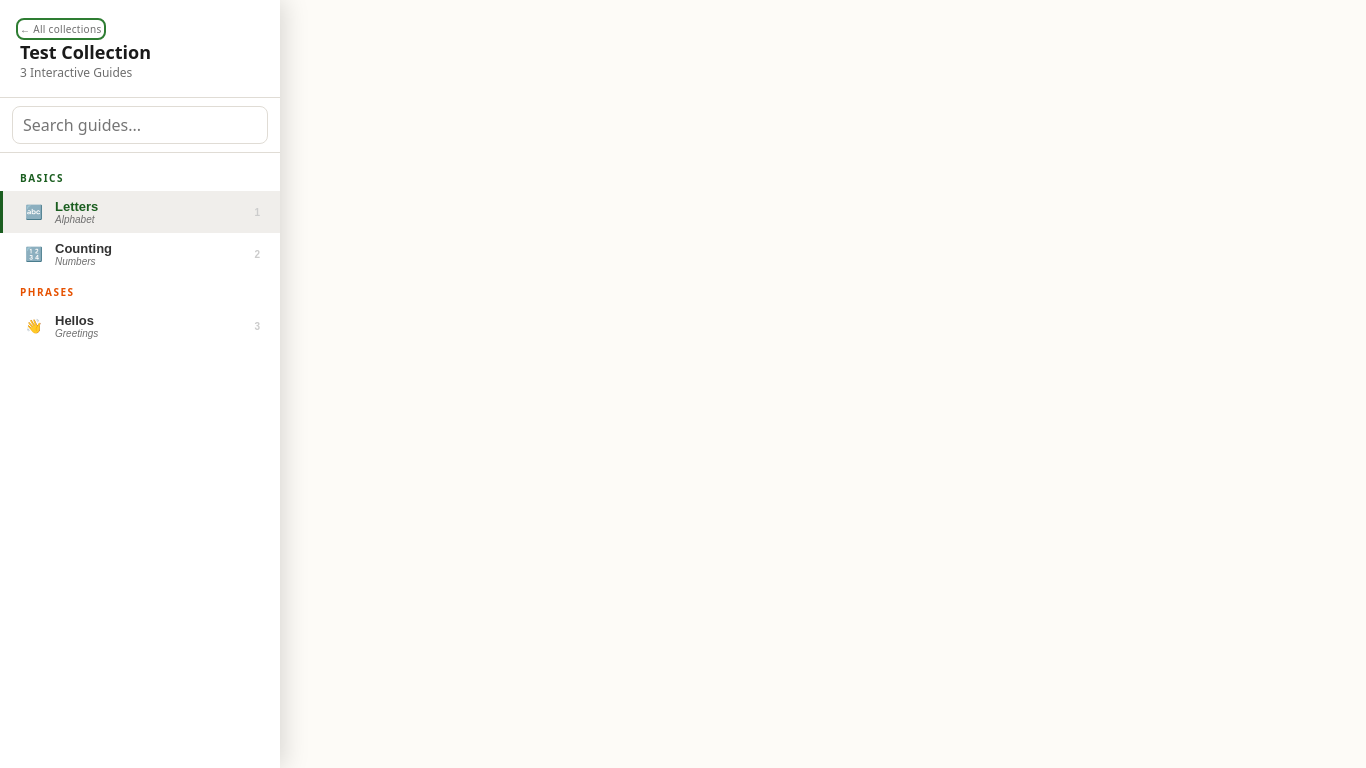
GuideSidebar › clears search when Clear search is clicked
Type "hello" into the field with placeholder "Search guides..." at [140, 125], box [12,106,268,144]
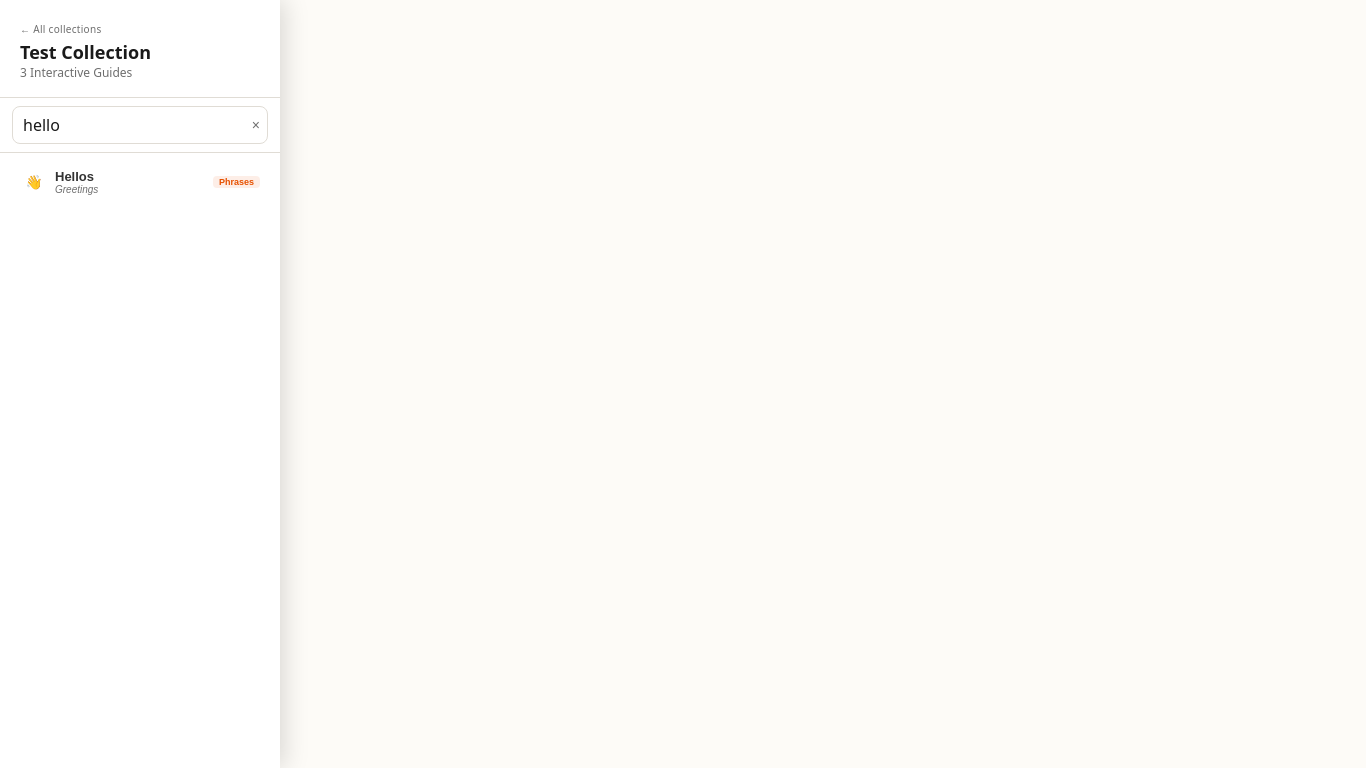
Click the button named "Clear search" at [256, 125], box [250,116,262,134]
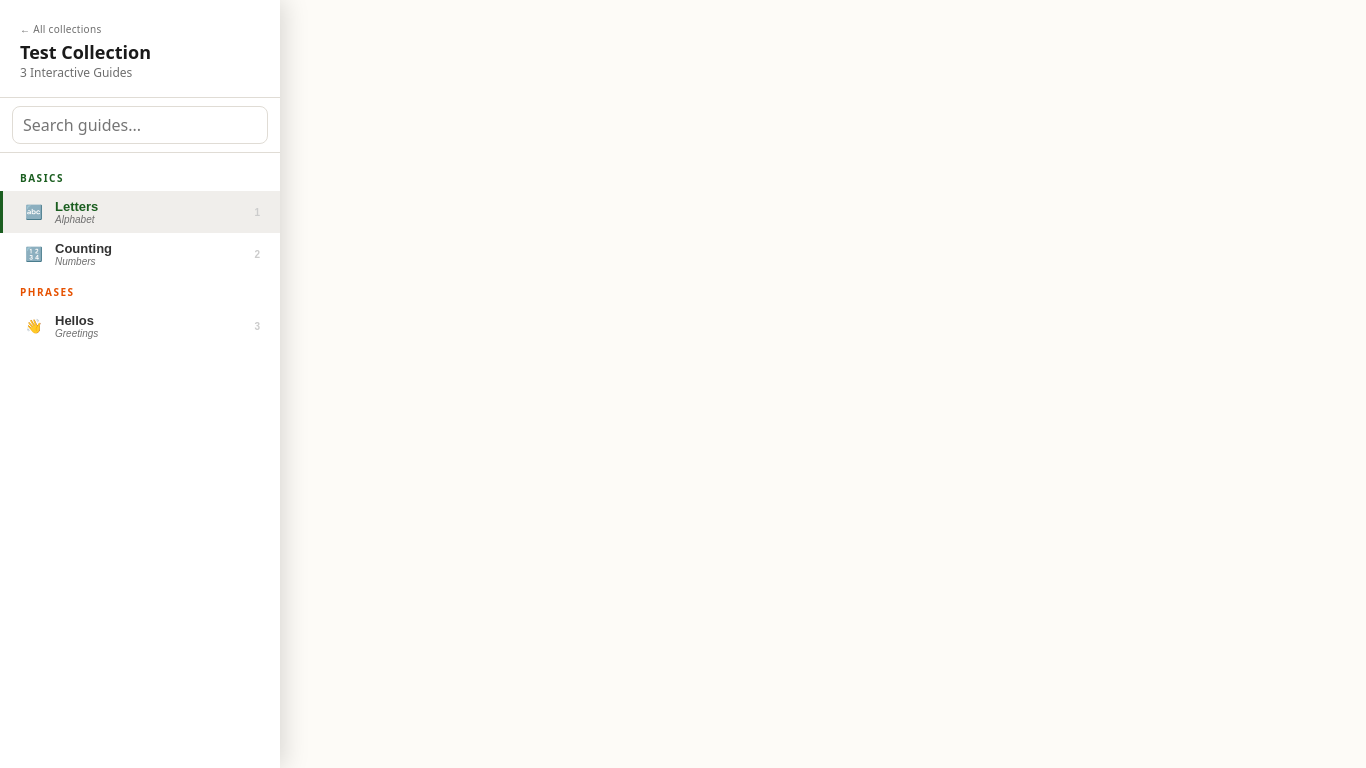
Now the field with placeholder "Search guides..." is empty, box [12,106,268,144]
